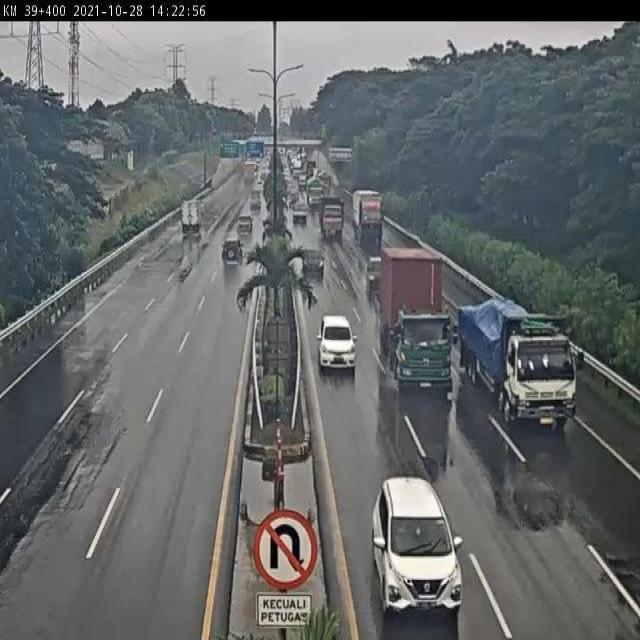truck-l-: (352, 185, 383, 239)
truck-m-: (319, 197, 343, 236)
truck-s-: (177, 198, 203, 238)
truck-xl-: (458, 297, 570, 428), (382, 247, 452, 393)
